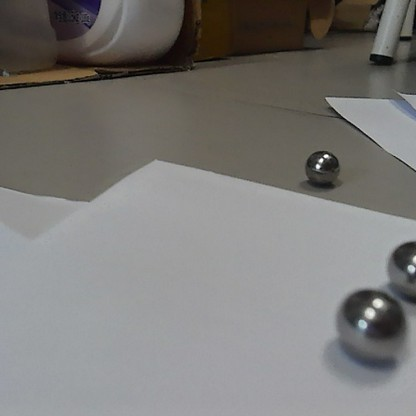ironball: (335, 286, 410, 368), (383, 236, 414, 303), (301, 149, 339, 186)
